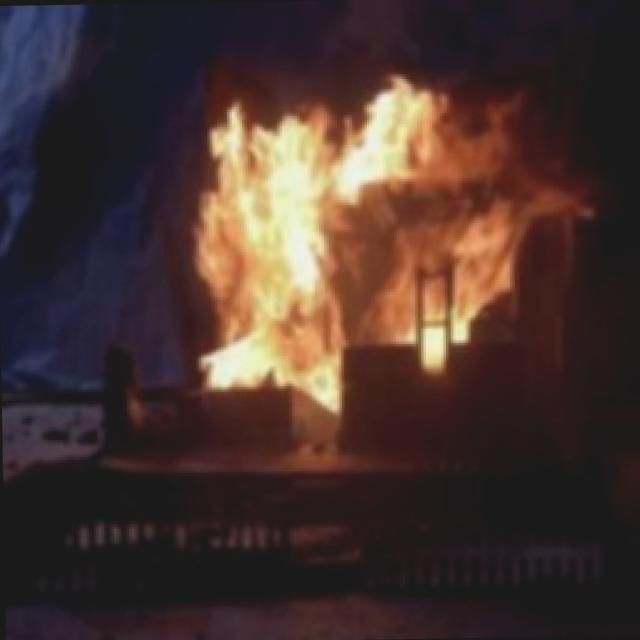fire: (182, 57, 563, 403)
